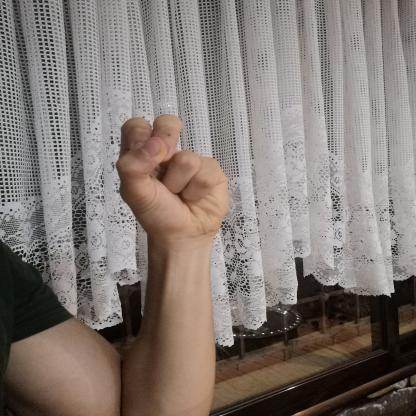QAAF: (94, 102, 242, 250)
